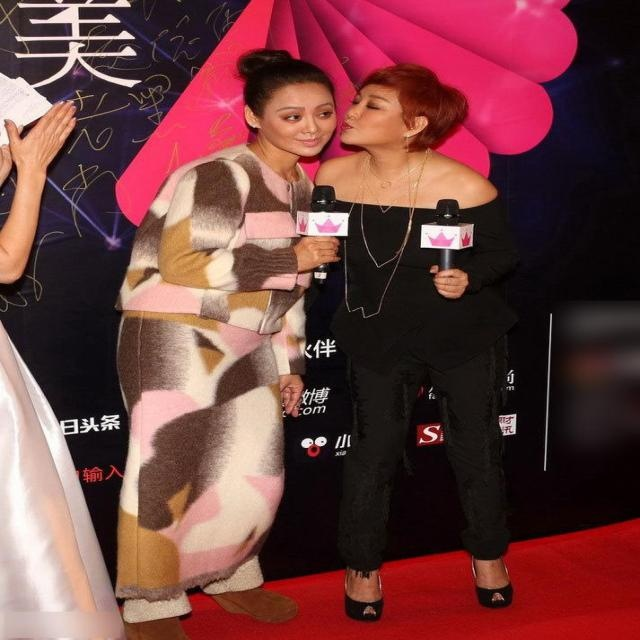obstacle: (142, 33, 339, 604), (343, 55, 506, 604)
